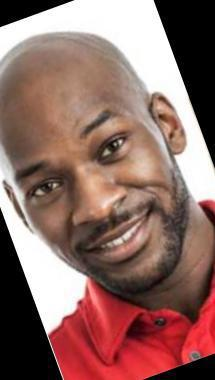Sober: (14, 73, 185, 285)
